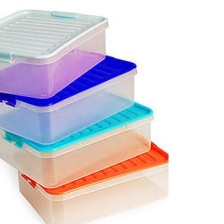plastic_box: (0, 85, 158, 192), (12, 121, 168, 224), (0, 40, 140, 149), (0, 4, 114, 103)
